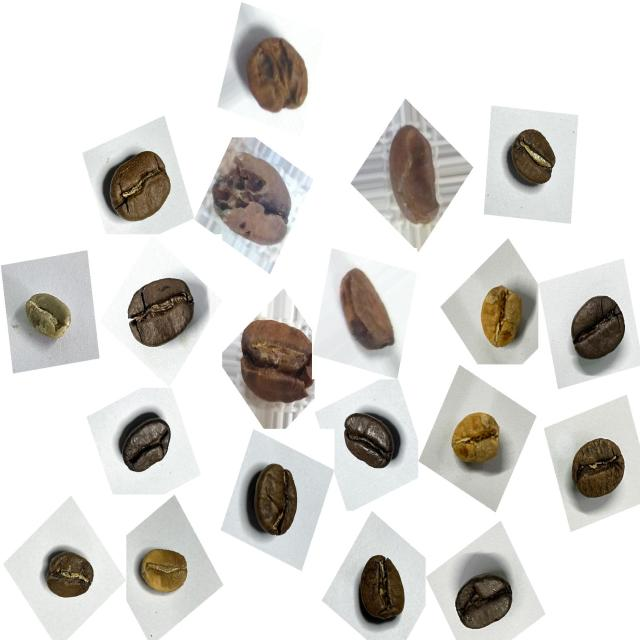bad: (209, 142, 299, 257), (234, 306, 323, 413), (237, 22, 317, 125), (331, 256, 401, 361), (386, 115, 447, 225)
dark: (119, 268, 203, 360), (559, 282, 632, 378), (448, 554, 522, 640), (112, 402, 181, 486), (336, 401, 404, 483)
green: (18, 280, 83, 354)
light: (440, 394, 513, 481), (467, 271, 533, 359), (130, 533, 198, 608)
medium: (93, 134, 181, 236), (241, 457, 312, 549), (563, 426, 634, 512), (350, 548, 420, 632), (500, 117, 565, 196), (38, 540, 104, 610)
